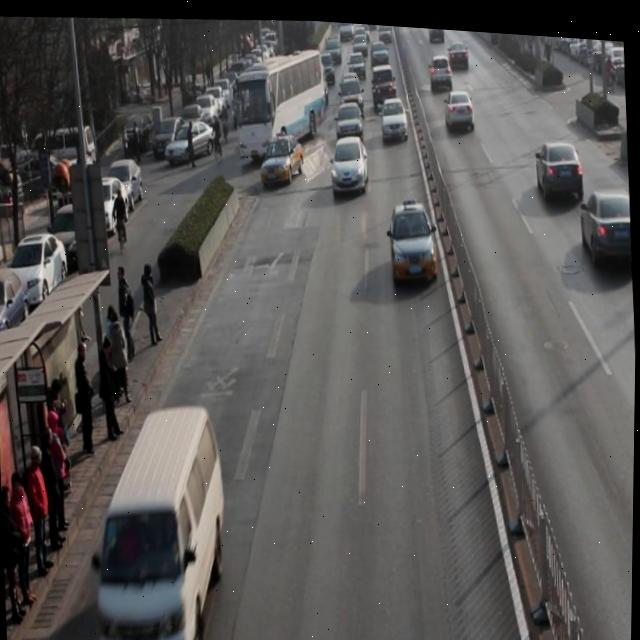car: (580, 176, 634, 262), (387, 196, 440, 282), (536, 131, 587, 198), (329, 129, 371, 194), (258, 129, 306, 185), (379, 90, 411, 139), (335, 95, 366, 143), (443, 83, 476, 128), (372, 59, 398, 106), (338, 71, 366, 114), (428, 46, 455, 90)
truck: (84, 396, 234, 640)
van: (233, 40, 328, 164)
